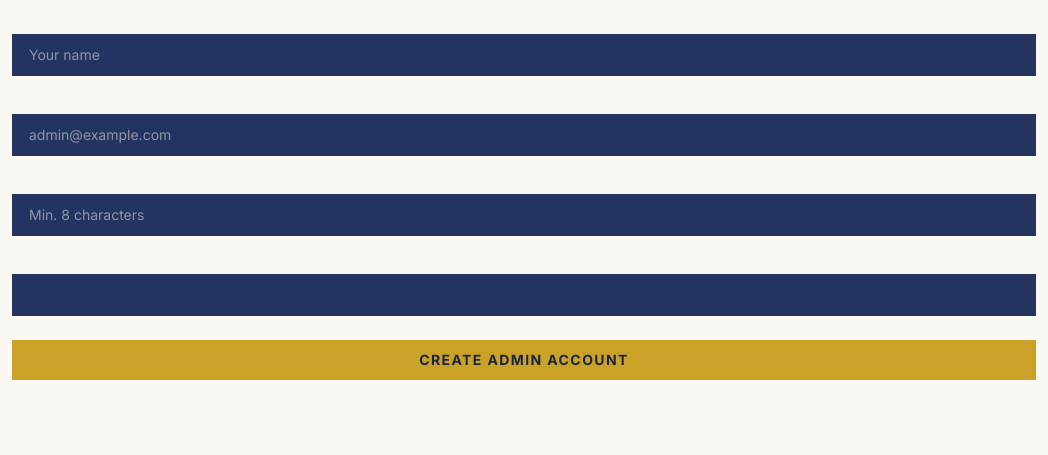
Test: a failed setup request preserves all input and restores its submit control
The width and height of the screenshot is (1048, 455).
Type "Controlled Admin" into the field with placeholder "Your name" at [524, 55], box [12, 34, 1036, 76]
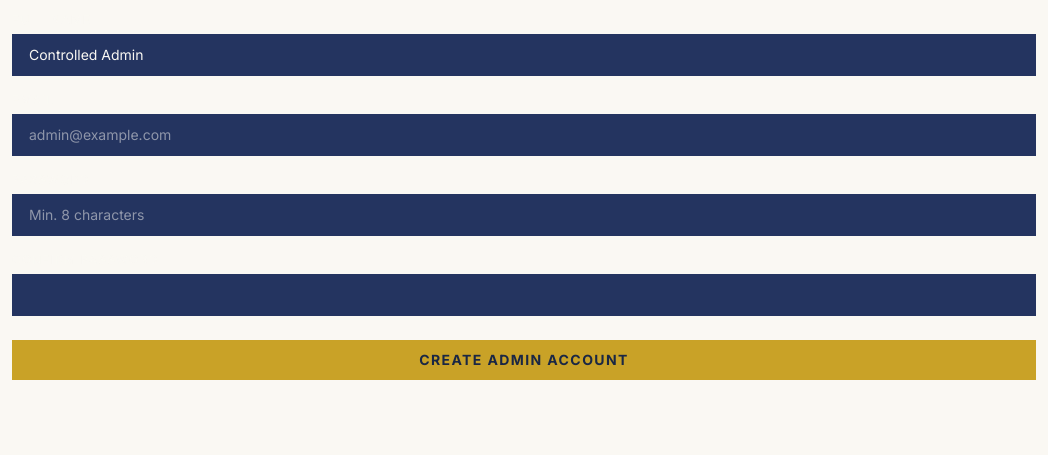
Type "controlled@consilium.test" into the field with placeholder "admin@example.com" at [524, 135], box [12, 114, 1036, 156]
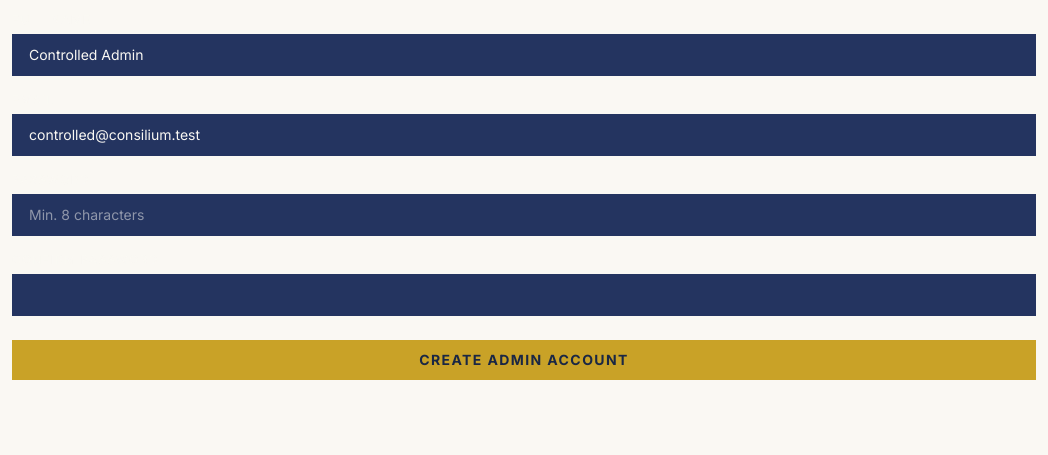
Type "Controlled-password-123" into the password field labelled "Password" at [524, 215], box [12, 194, 1036, 236]
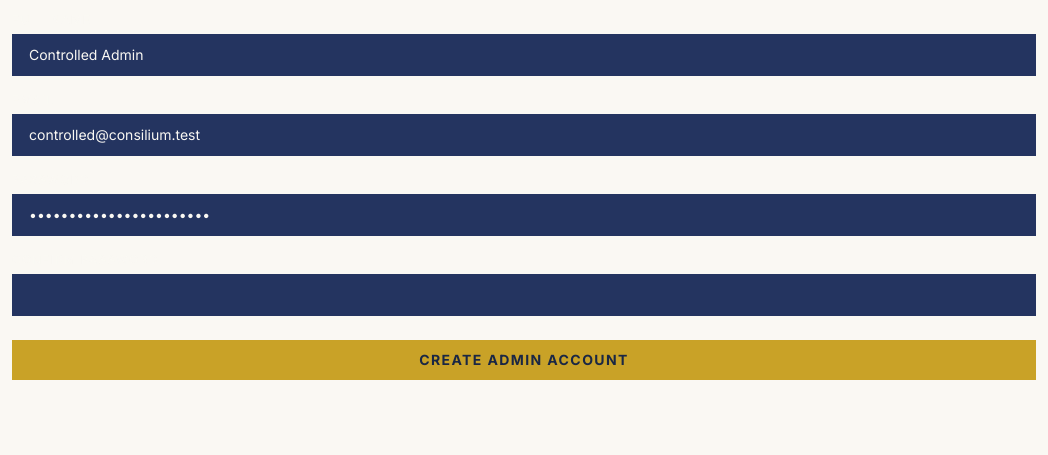
Type "Controlled-password-123" into the password field labelled "Confirm Password" at [524, 295], box [12, 274, 1036, 316]
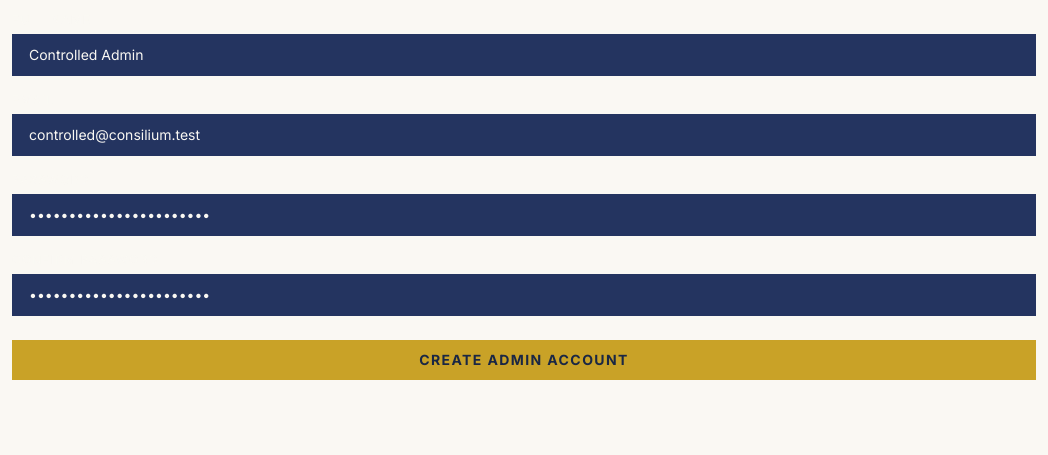
Submit the form
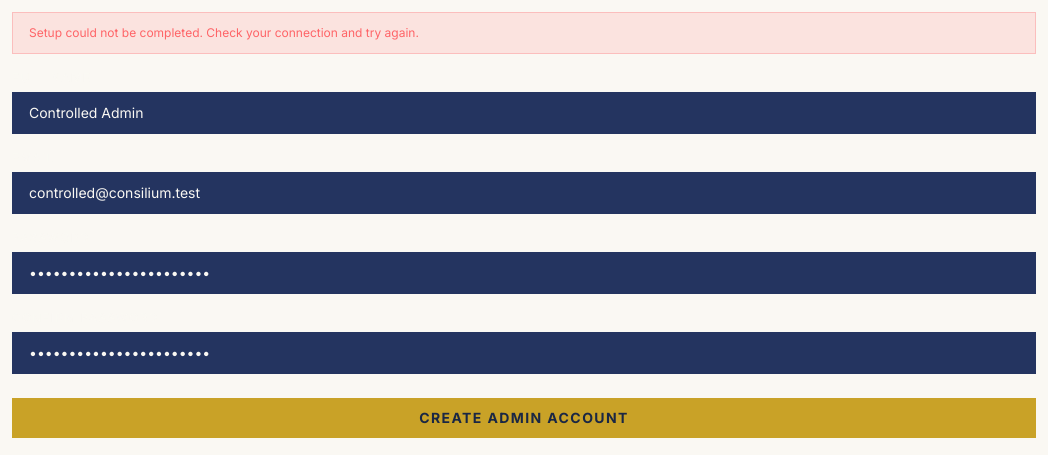
Expected: the button "Create Admin Account" is enabled, [12, 398, 1036, 438]
Expected: the message shows "Check your connection and try again.", [29, 25, 419, 40]
